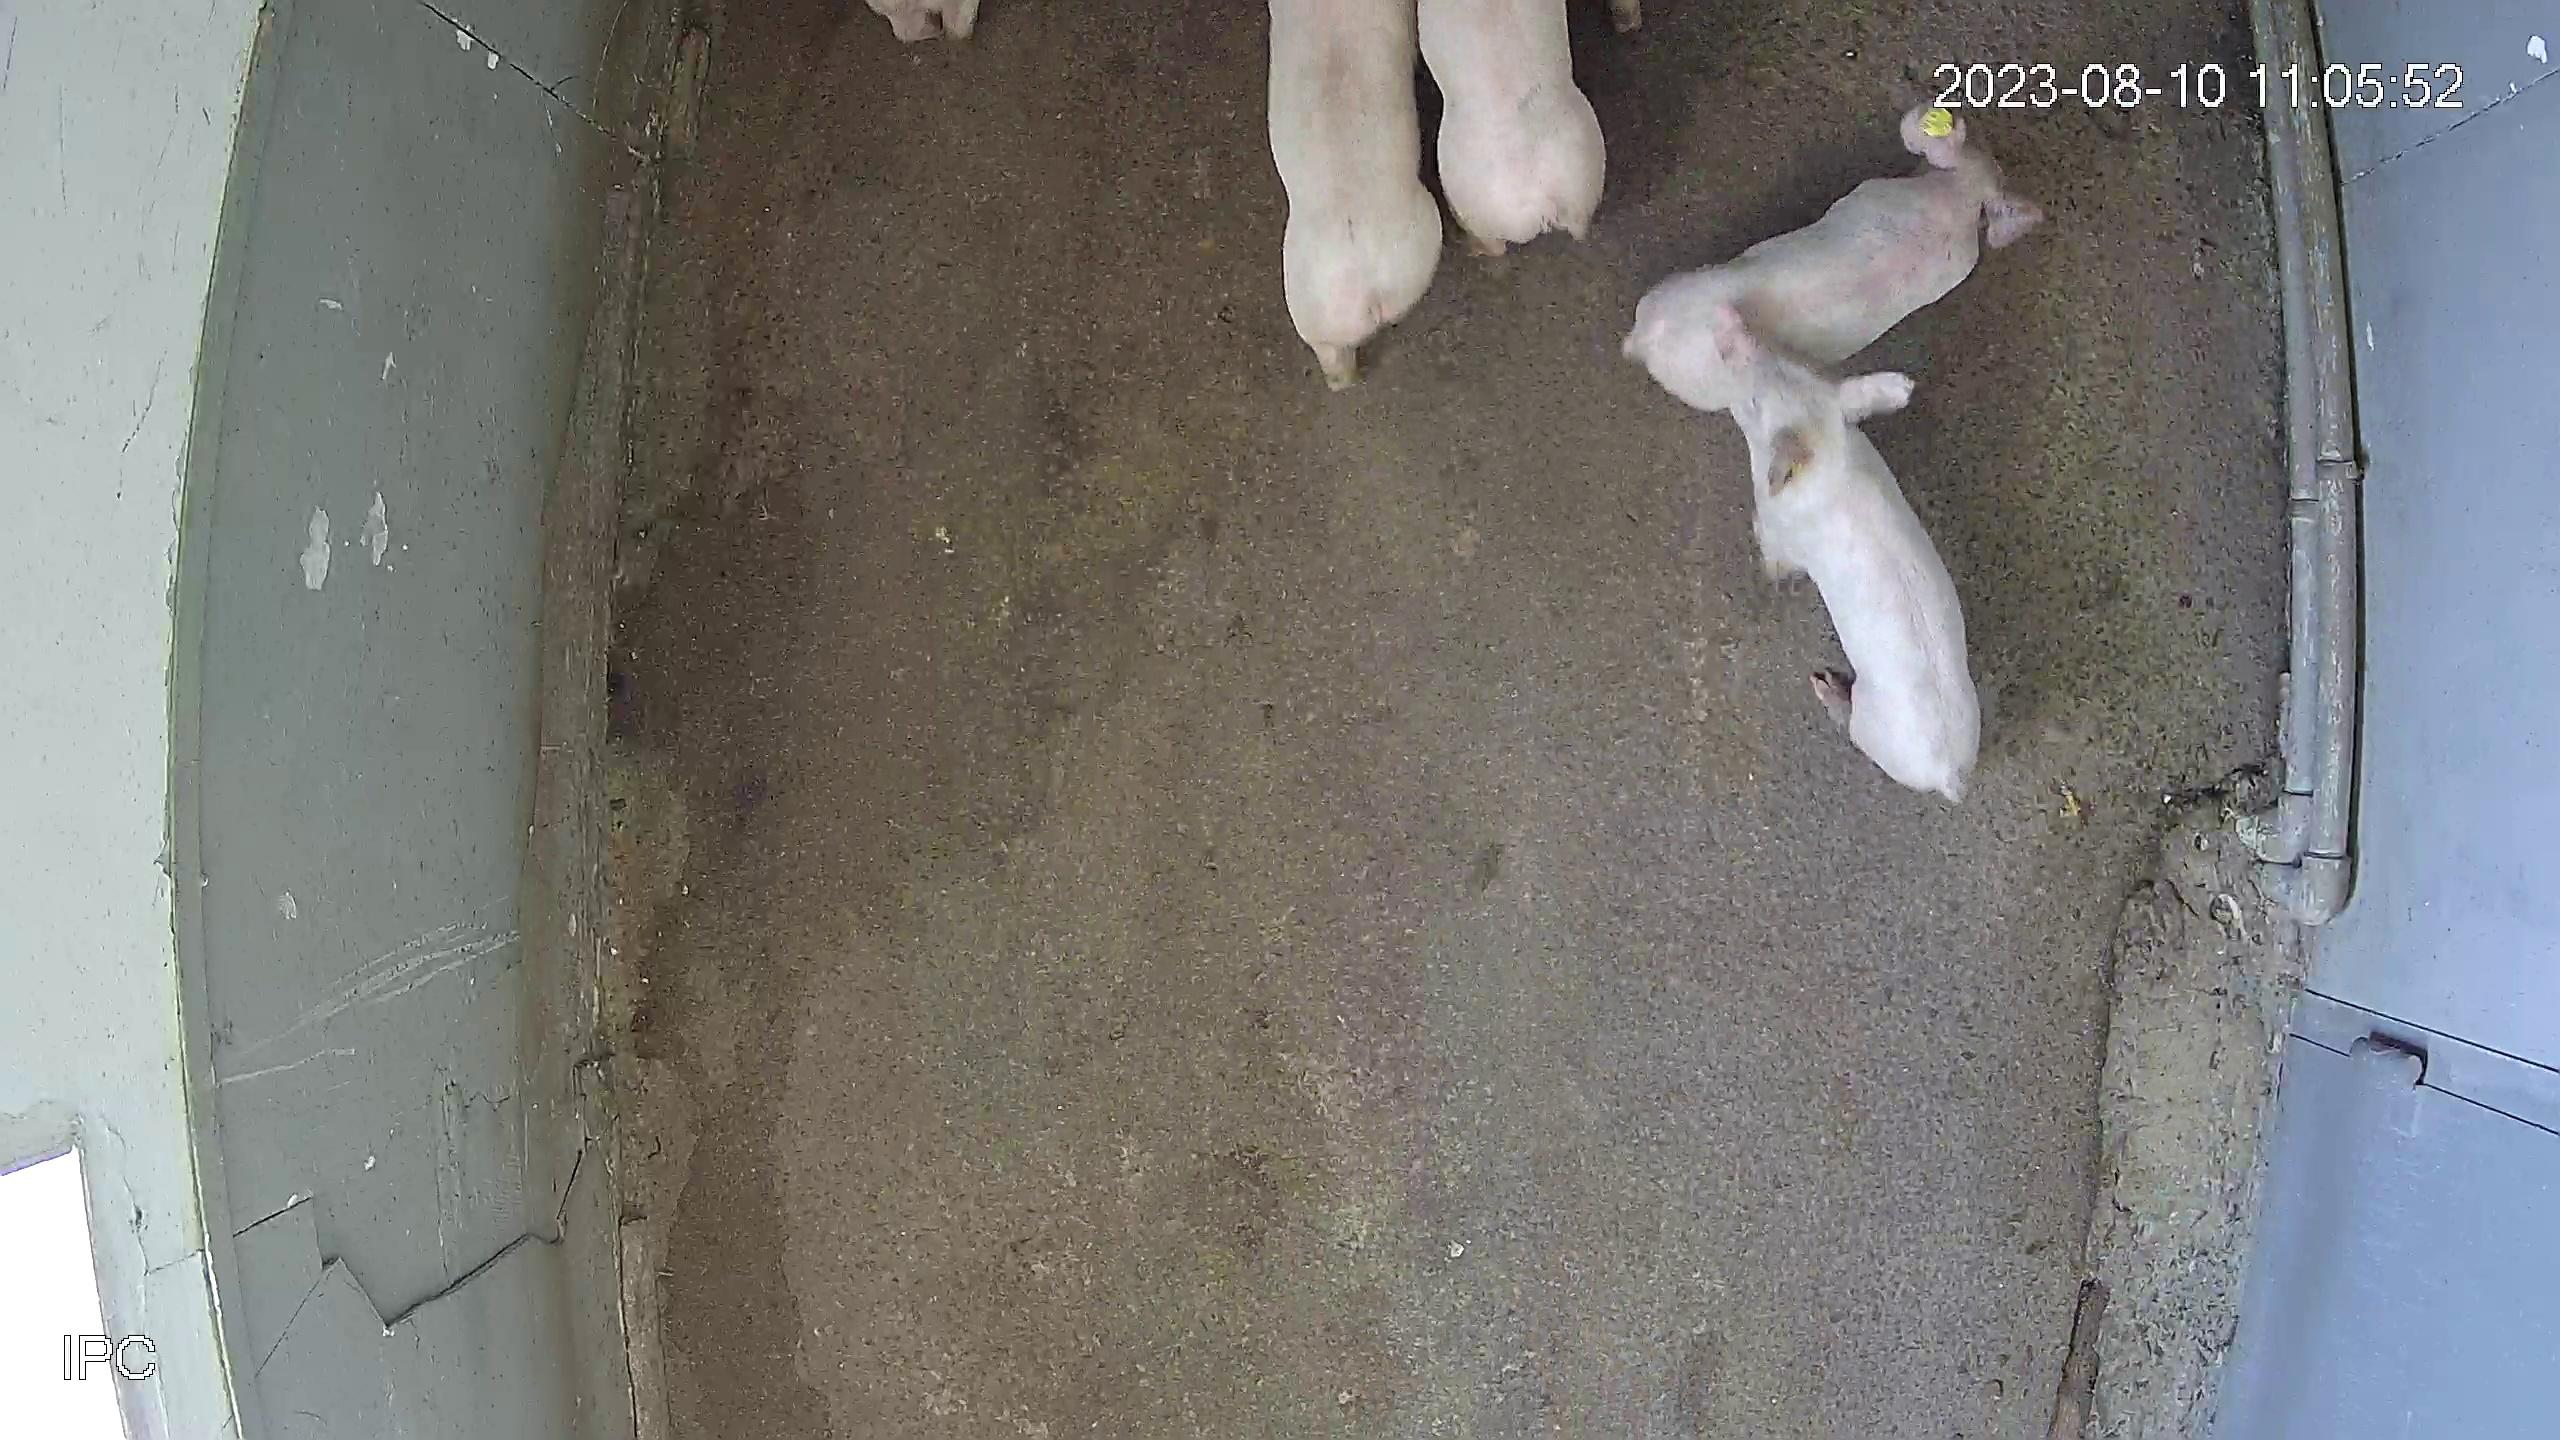Pig: (1720, 301, 1983, 800), (1625, 100, 2048, 406), (1269, 0, 1444, 385), (1419, 0, 1607, 251)
